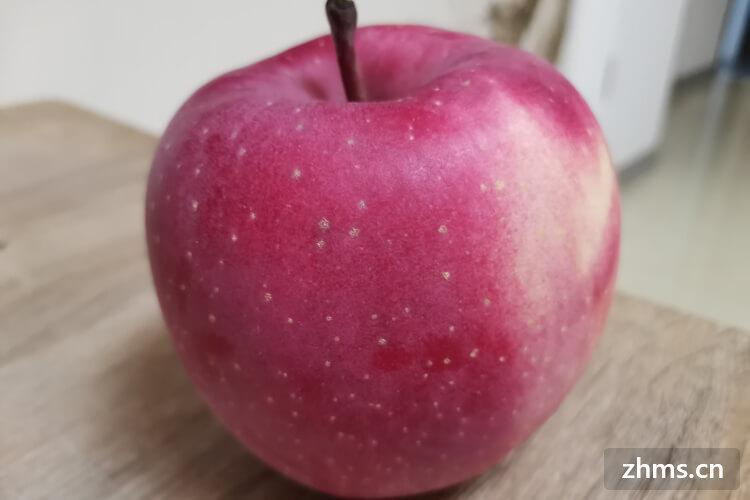apple: (146, 13, 623, 494)
